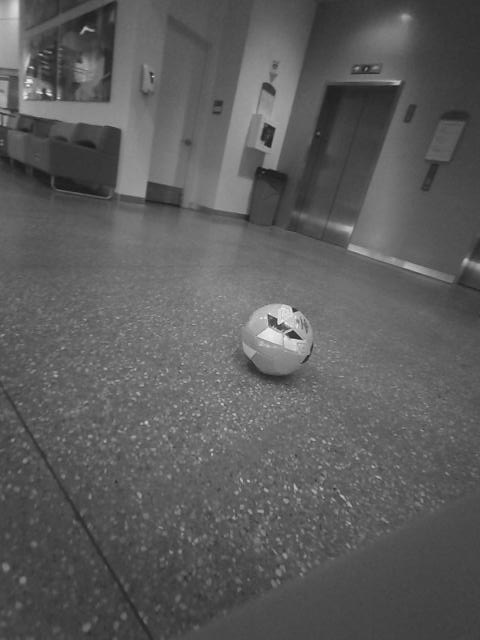ball: (211, 268, 258, 311)
